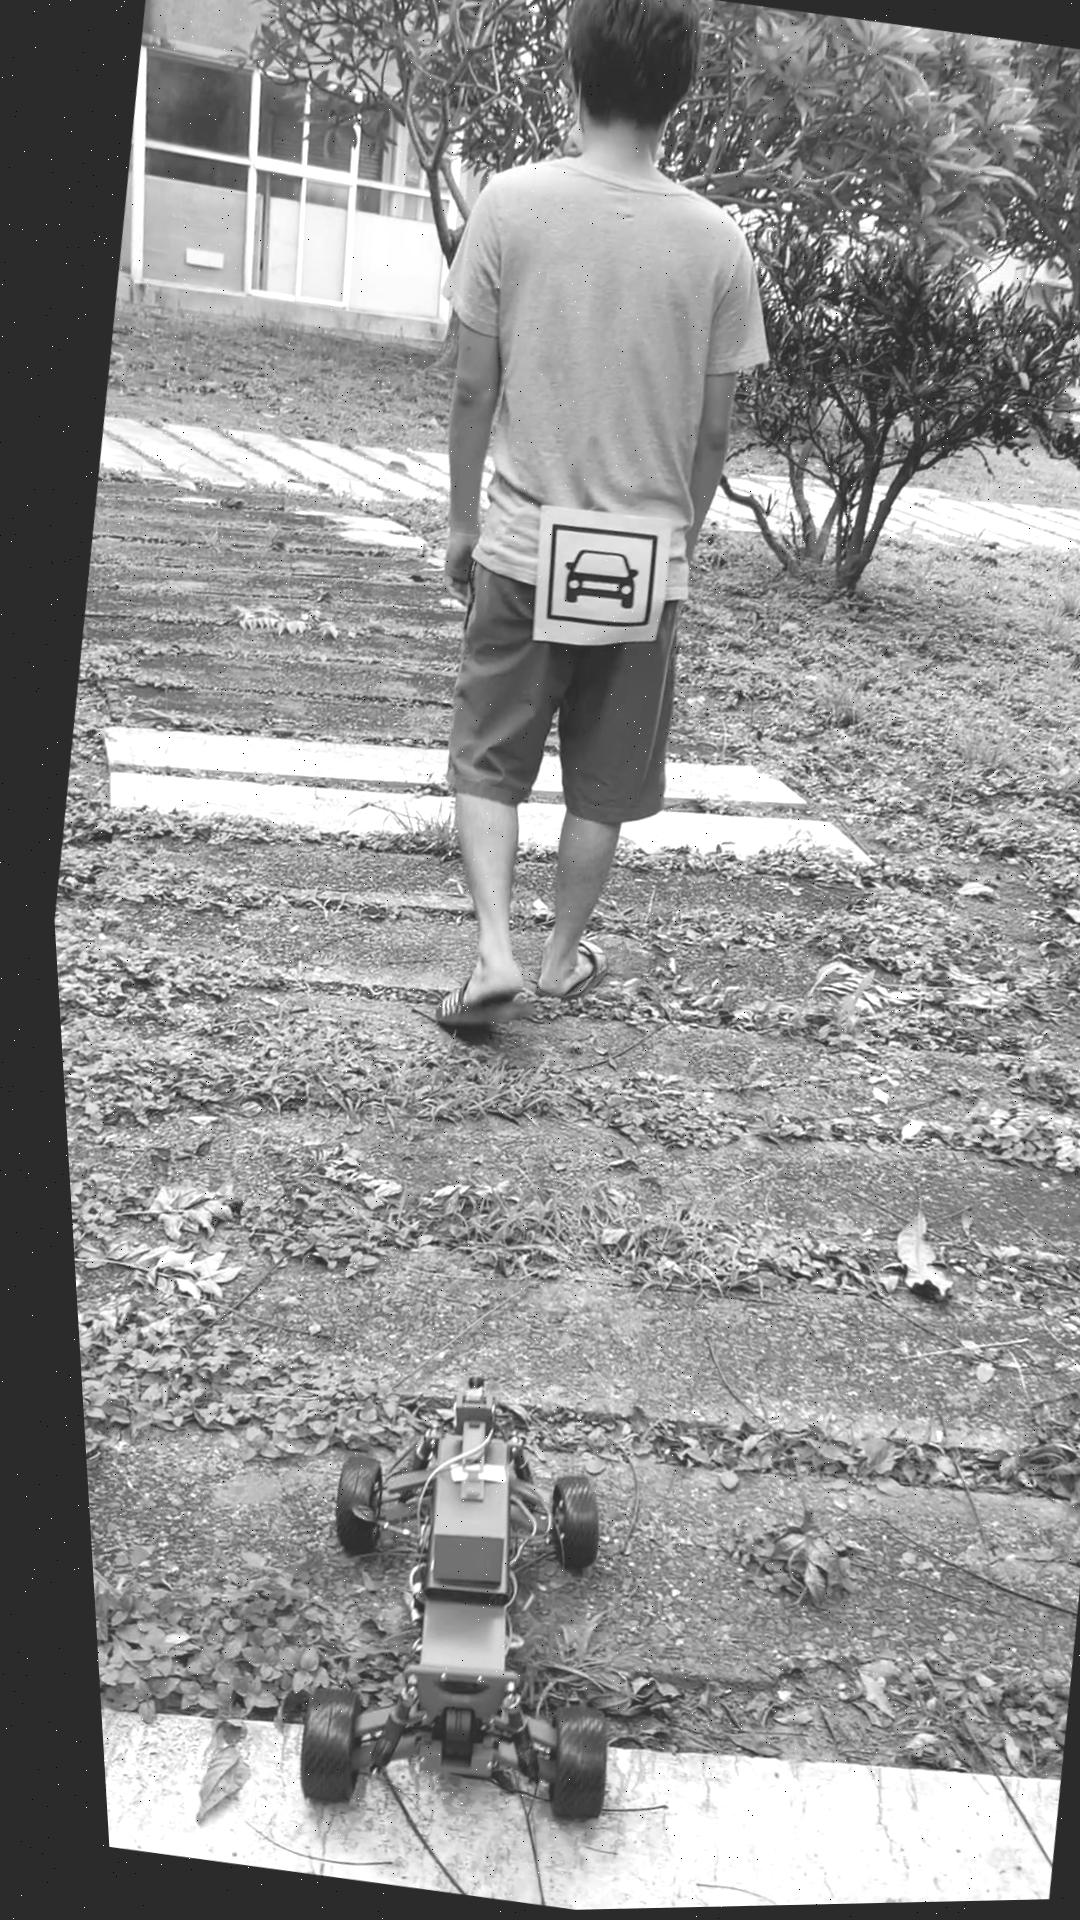car_img: (530, 522, 657, 638)
